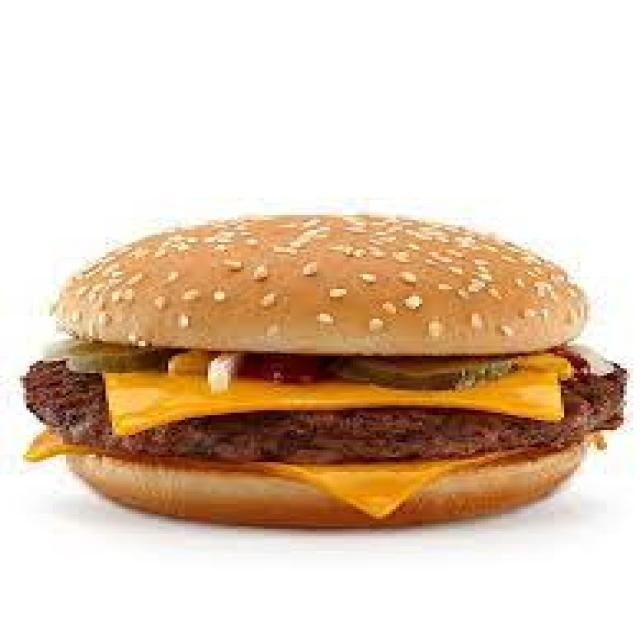햄버거: (23, 210, 624, 529)
